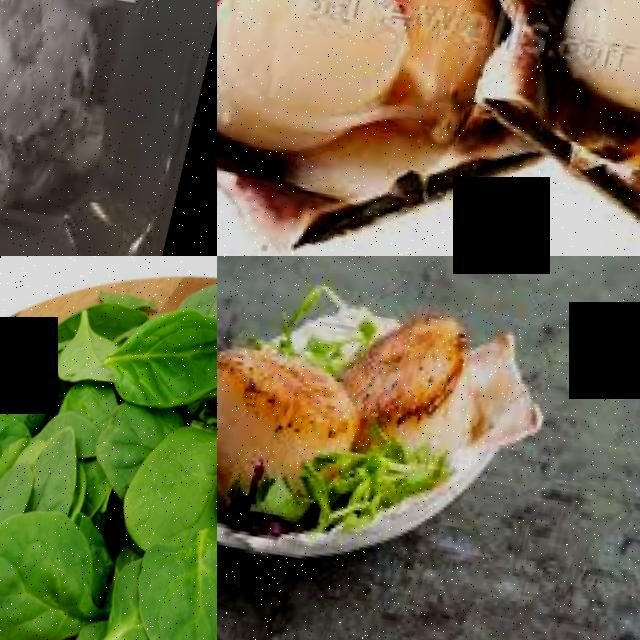sea scallops: (371, 300, 489, 450), (217, 332, 329, 479)
spinach: (0, 498, 118, 640), (109, 299, 217, 407), (126, 415, 217, 533), (130, 525, 217, 640), (33, 429, 94, 512), (0, 345, 45, 421)
